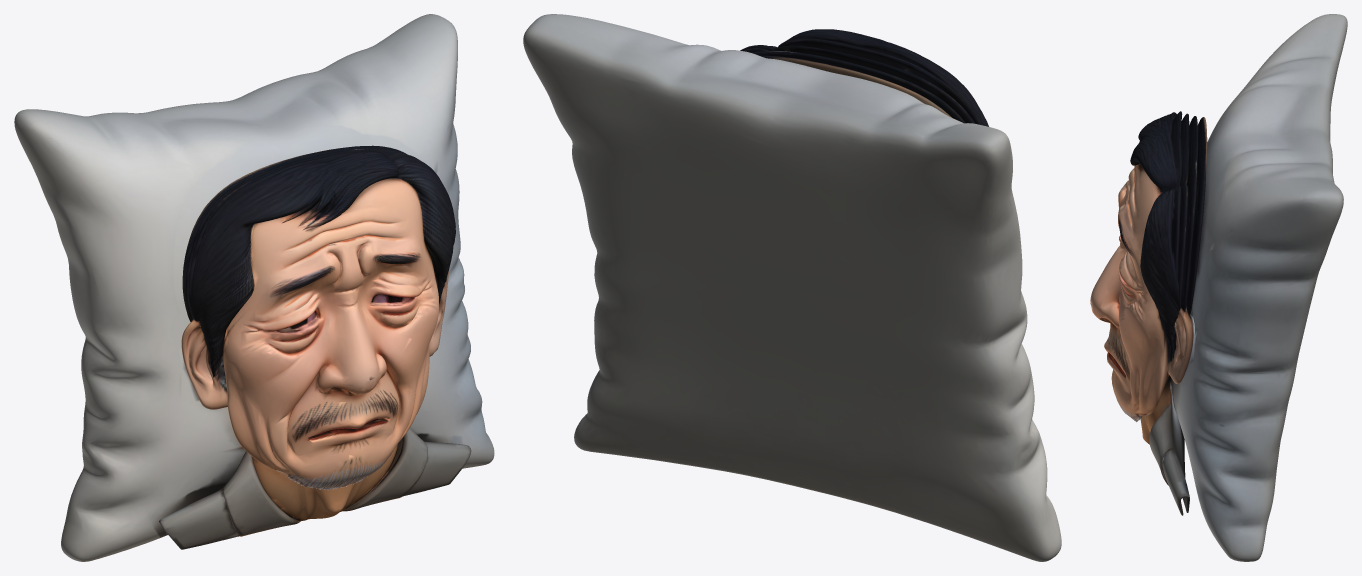
Rendered from ojisan-pillow.glb.
3 views of the same model, side by side, from view 1: azimuth 30°, elevation 25°; view 2: azimuth 150°, elevation 25°; view 3: azimuth 270°, elevation 25° (orthographic). The views are drawn at different scales.
Visible parts, largest first — view 1: node_0; view 2: node_0; view 3: node_0.
Boxes of the visible parts, <box> form: node_0: <box>14,14,494,561</box>; node_0: <box>523,14,1061,561</box>; node_0: <box>1090,14,1347,561</box>.
Bounding box in the file's own units: 0.8317 × 0.7671 × 0.4846.
1 material, 1 textured.
